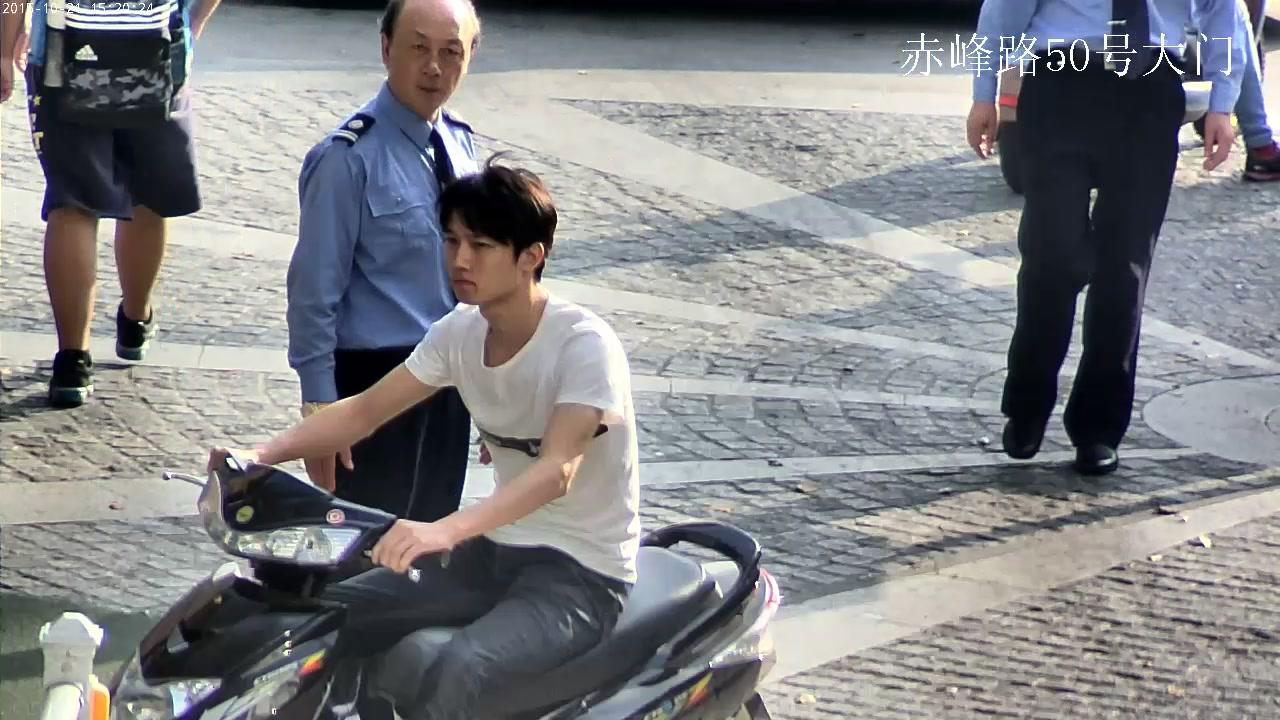face: (393, 16, 472, 106), (444, 213, 520, 302)
